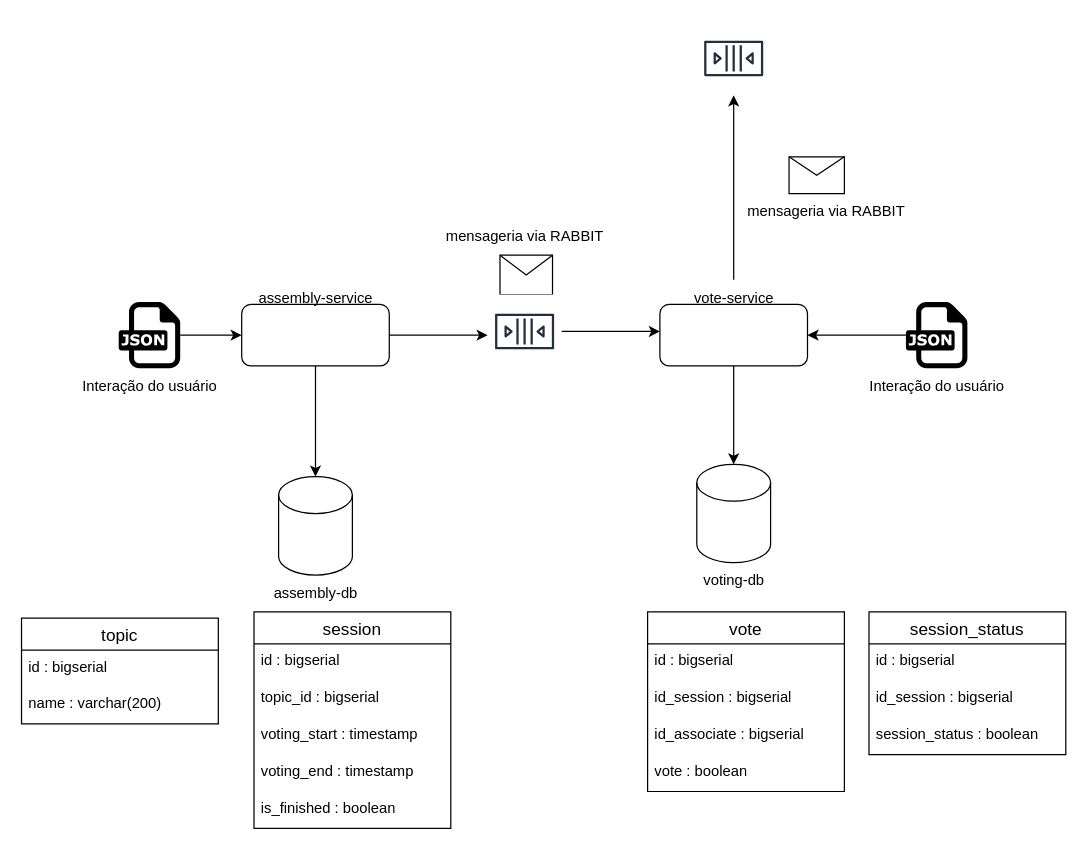
Some shapes in this 1087 by 854 pixel diagram are drawn without their labels. Here are the shapes that lost their labels. From the top down, the centre of each, then its label:
the point at 733,57: Queue : session-result-queue
the point at 523,330: Queue : session-status-queue
